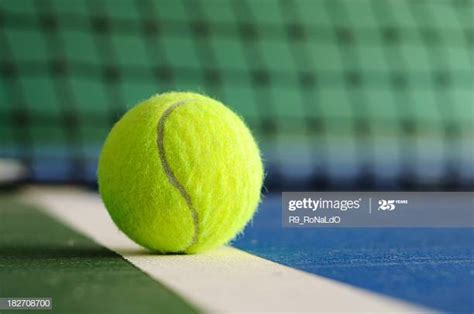tennis_ball: (96, 90, 265, 255)
